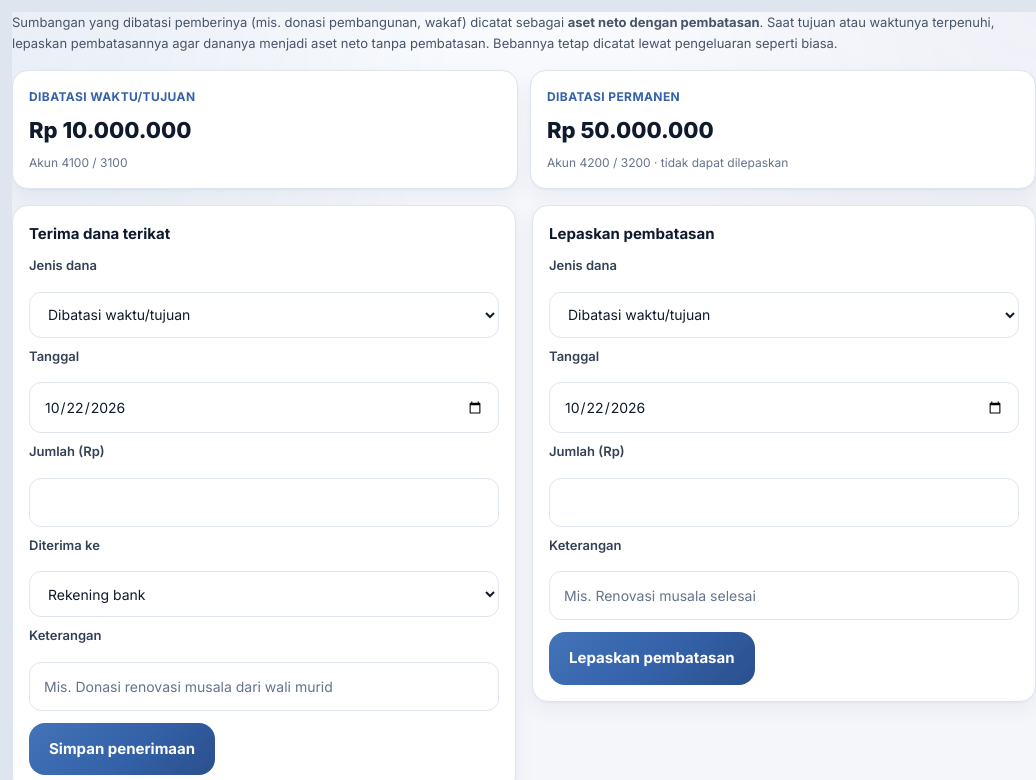
it: RestrictedFunds › releases a restriction (only releasable funds) and shows server errors
Type "2026-04-01" into the 2nd date field labelled "Tanggal" at point(784, 408), box [549, 382, 1019, 433]
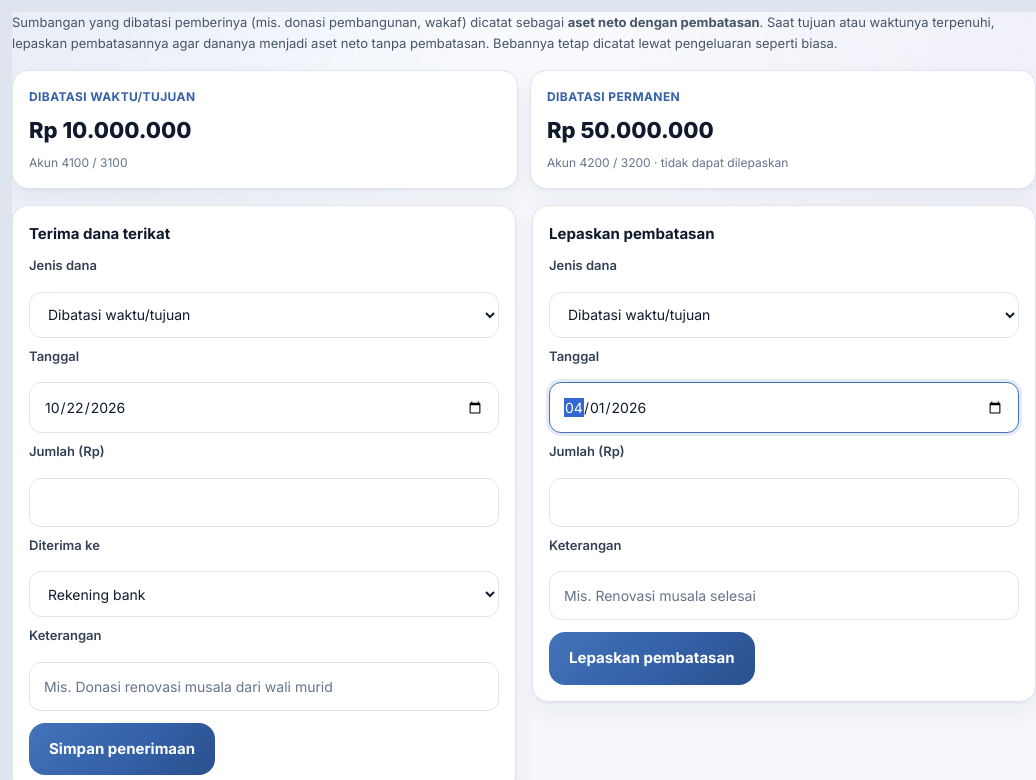
Type "99000000" into the 2nd field labelled "Jumlah (Rp)" at point(784, 502), box [549, 478, 1019, 527]
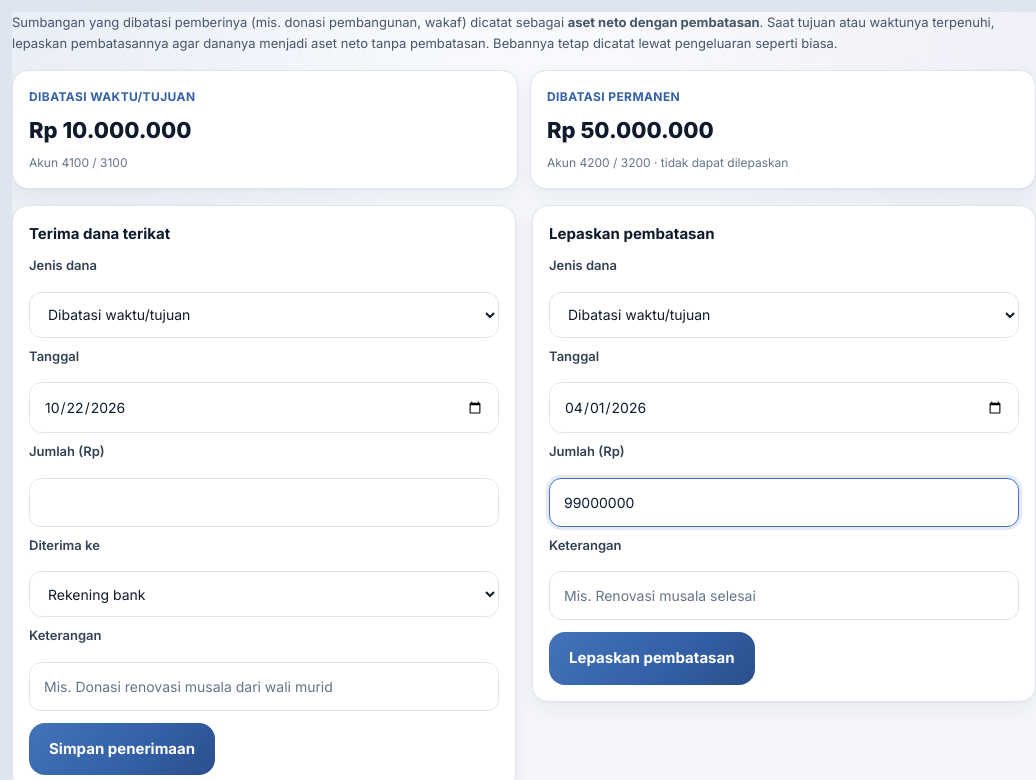
Type "Renovasi" into the 1st field labelled "Keterangan" at point(784, 596), box [549, 571, 1019, 620]
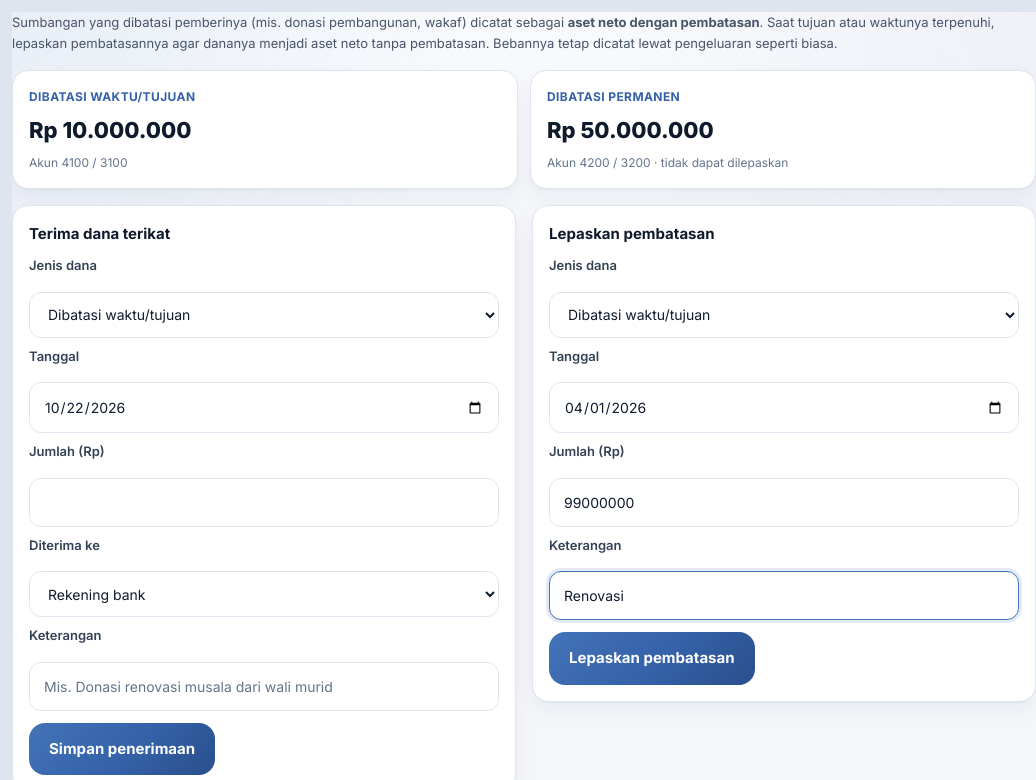
Click the button "Lepaskan pembatasan" at point(652, 659), box [549, 632, 754, 685]
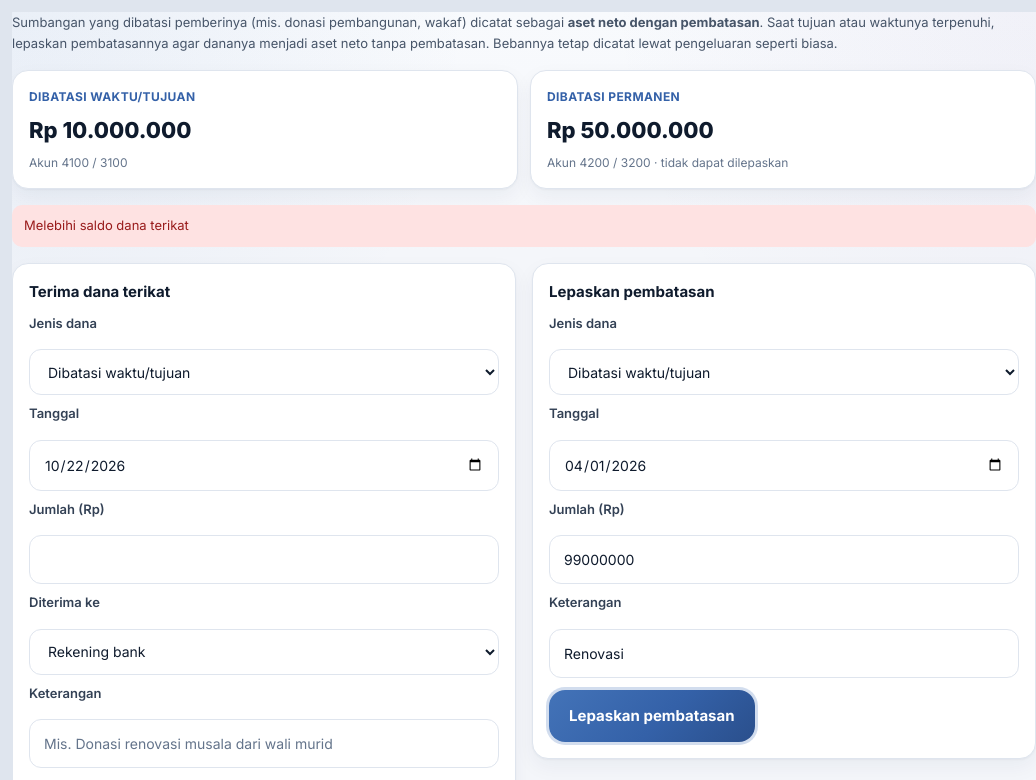
Check: the message reads "Melebihi saldo dana terikat", box [24, 218, 189, 234]
